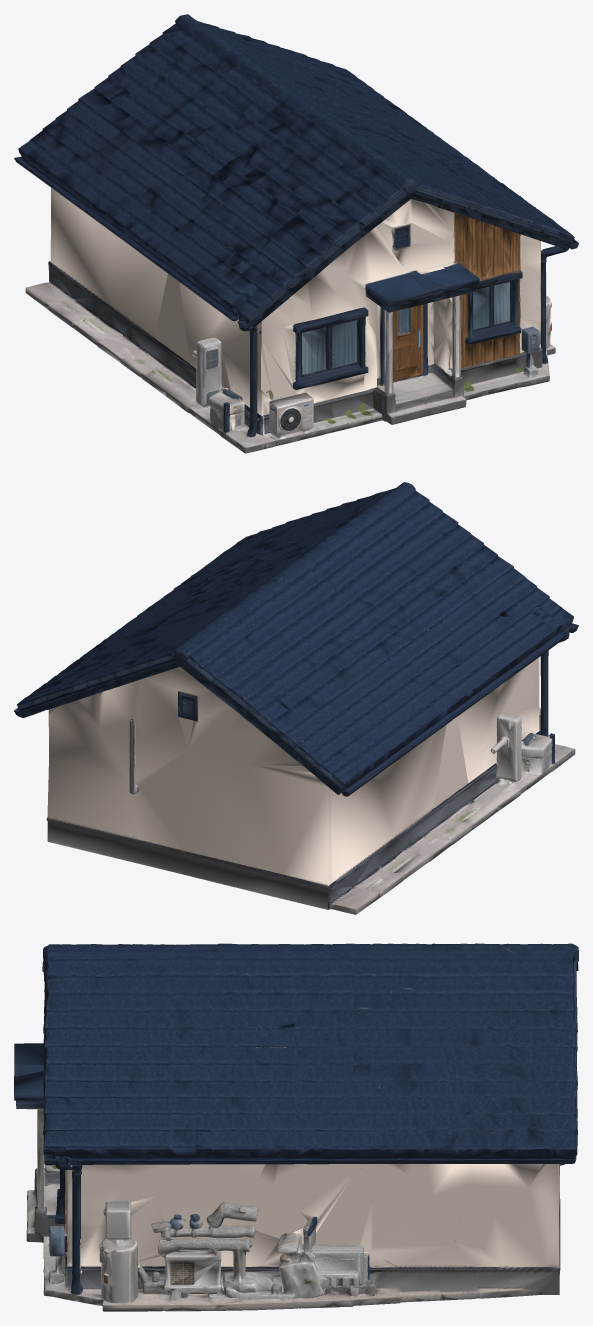
Rendered from BLD_011_residence_e.glb.
The picture shows the model from 3 angles, top to bottom: view 1: azimuth 30°, elevation 25°; view 2: azimuth 150°, elevation 25°; view 3: azimuth 270°, elevation 25°; orthographic projection. The views are drawn at different scales.
Parts seen in each view (by area): view 1: Mesh_0; view 2: Mesh_0; view 3: Mesh_0.
Boxes of the visible parts, <box> form: Mesh_0: <box>14,14,578,453</box>; Mesh_0: <box>14,482,578,914</box>; Mesh_0: <box>14,943,578,1311</box>.
Size of the model in its own units: 5.76 by 3.8 by 7.14.
1 material, 1 textured.
